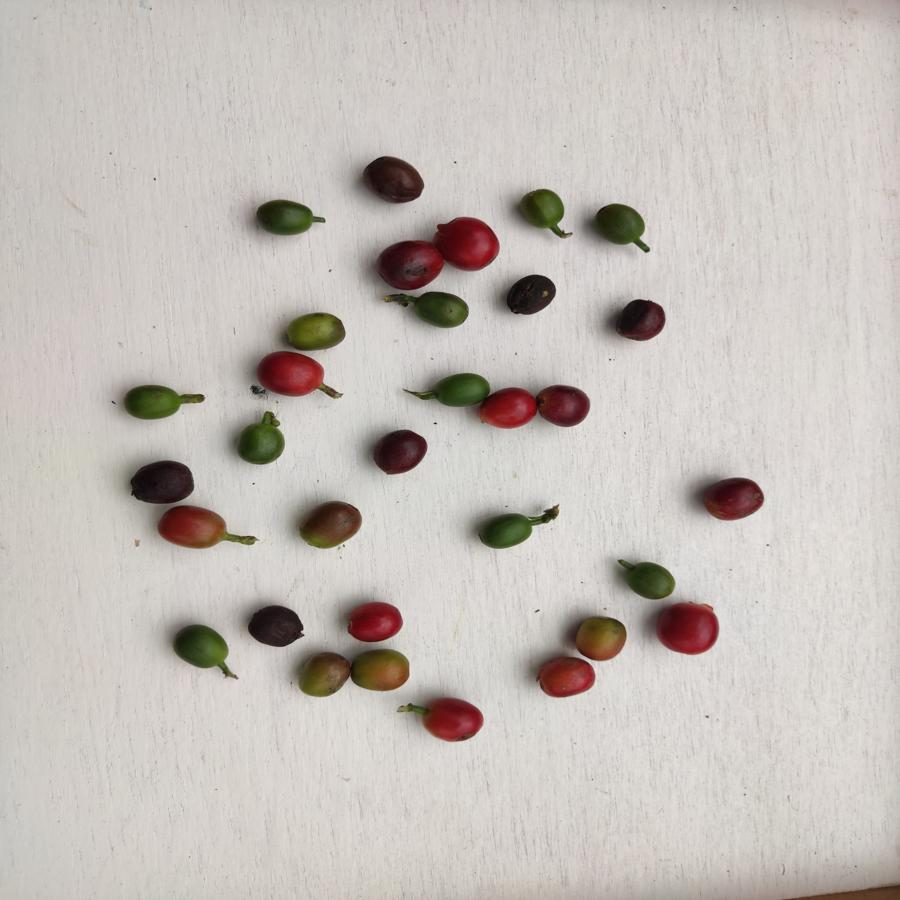Inmaduro: (171, 620, 230, 673), (593, 199, 650, 250), (254, 196, 317, 241), (122, 383, 186, 422), (410, 289, 472, 328), (519, 187, 567, 235), (478, 511, 534, 551), (430, 371, 492, 407), (624, 560, 676, 602), (237, 422, 285, 467)
Maduro: (656, 601, 725, 656), (438, 217, 502, 269), (257, 350, 325, 398), (424, 693, 487, 744), (536, 654, 596, 699), (345, 600, 406, 643), (479, 387, 537, 429)
Pinton: (156, 504, 229, 552), (297, 500, 363, 550), (346, 646, 412, 692), (296, 651, 350, 698), (285, 311, 350, 350), (572, 615, 628, 660)
Sobremaduro: (697, 476, 772, 526), (361, 153, 430, 207), (375, 237, 441, 288), (126, 460, 201, 504), (242, 602, 305, 650), (372, 429, 430, 478), (537, 380, 592, 431), (613, 297, 669, 344), (506, 271, 555, 319)
